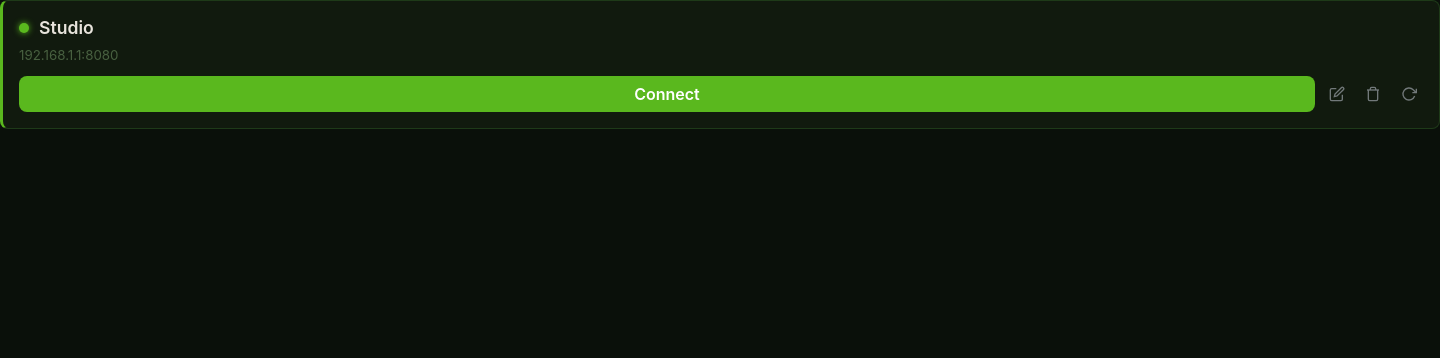
Test: InstanceCard — inline edit › cancelling the edit form brings the card back
Click the button titled "Edit".
click(1337, 94)  # box 1323,80 -> 1351,108
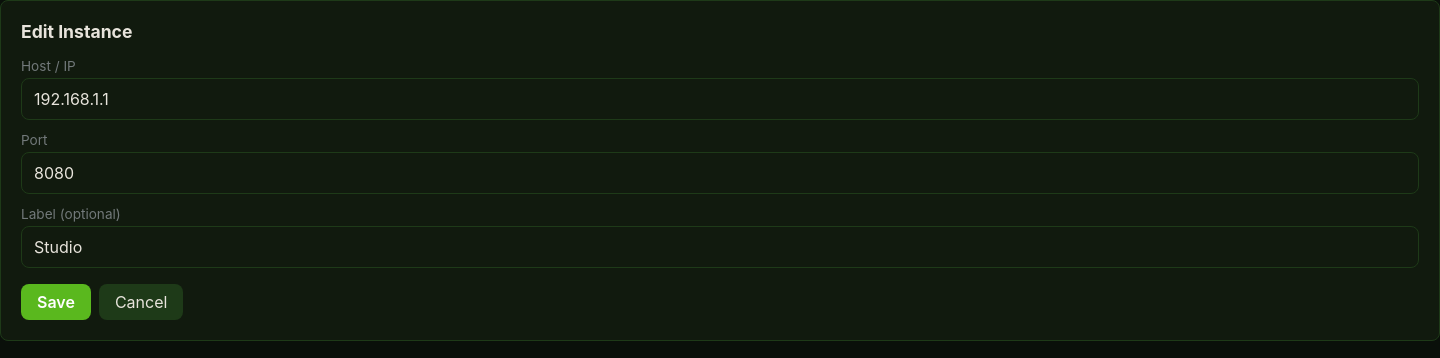
Click the button "Cancel".
click(141, 302)  # box 99,284 -> 183,320
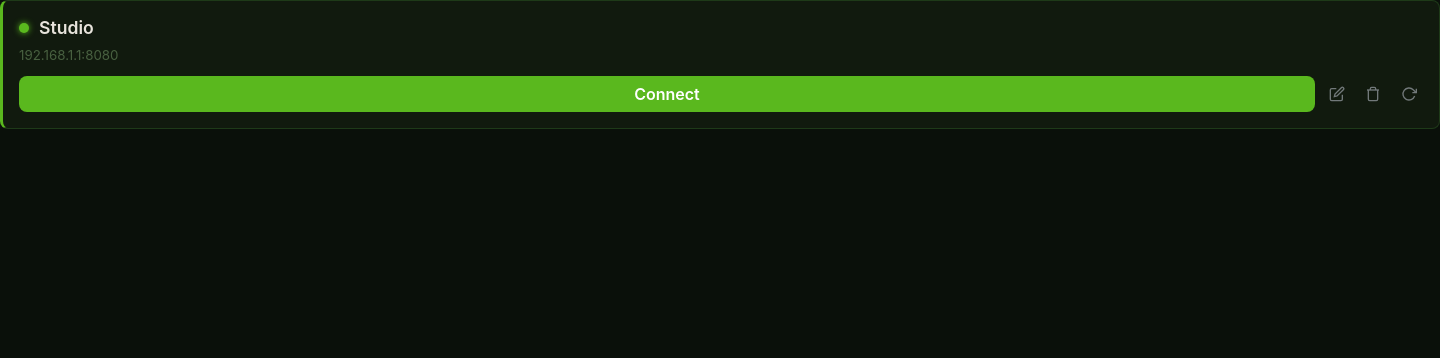
Expected: the element showing "Studio 192.168.1.1:8080 Connect" is shown, 0,0 -> 1439,129
Expected: the heading "Edit Instance" is gone
